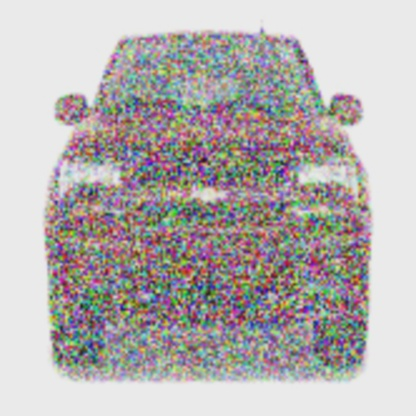Vehicle: (43, 23, 373, 376)
